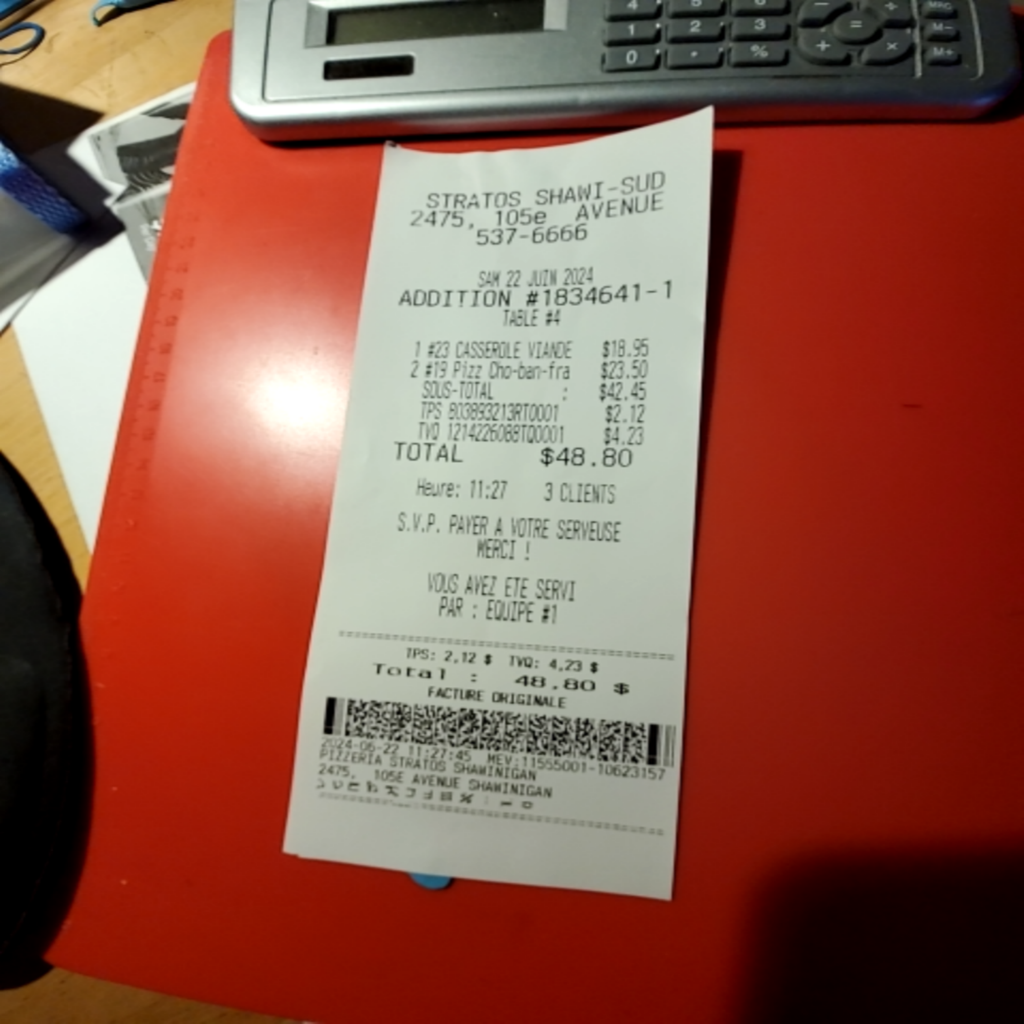recipt: (281, 103, 716, 902)
